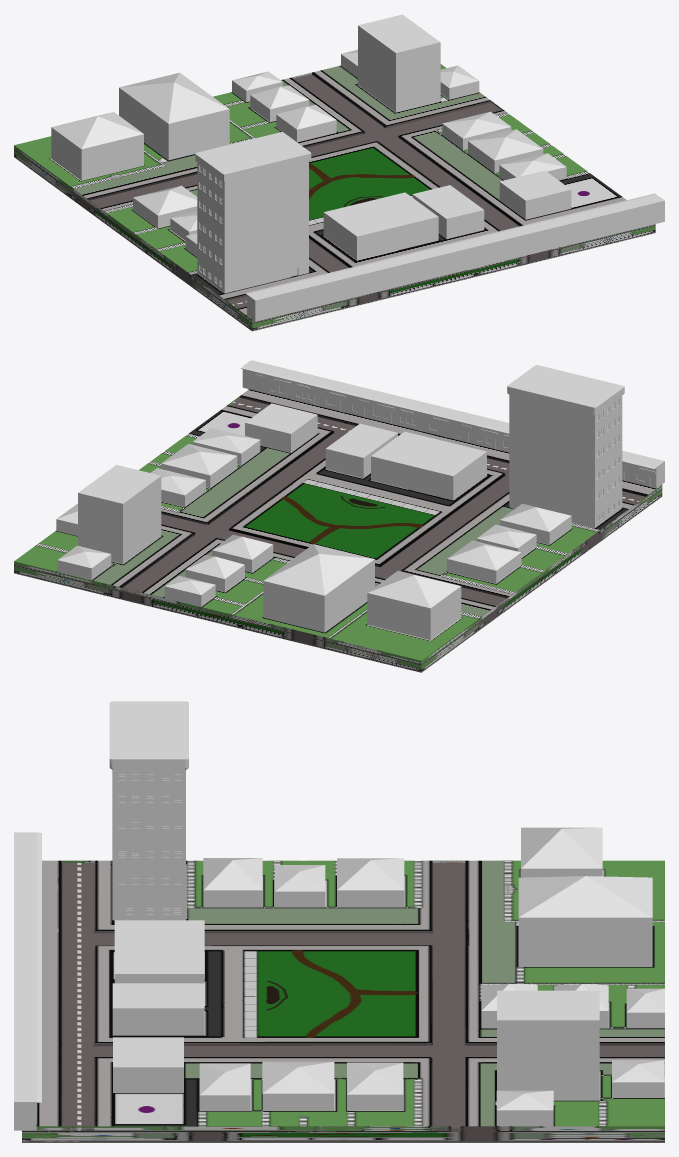
File: RacoonMap2.fbx
3 views of the same model, one above another, from view 1: azimuth 30°, elevation 25°; view 2: azimuth 150°, elevation 25°; view 3: azimuth 270°, elevation 25° (orthographic). The views are drawn at different scales.
Visible parts, largest first — view 1: Ground, Apartment001, Mantion big, Apartment002, Double Resterant, Mantion small, shops, shops002, shops003, shops001, resterant002, Resterant001 (+9 smaller); view 2: Ground, Apartment001, Mantion big, Apartment002, Double Resterant, Mantion small, shops003, shops002, resterant002, Resterant001, House008, Double house (+11 smaller); view 3: Ground, Apartment001, Mantion big, Apartment002, Double Resterant, Resterant001, Mantion small, resterant002, Double house, House008, House010, House002 (+11 smaller).
Boxes of the visible parts, x1=… form: Ground: x1=14, y1=64, x2=655, y2=331; Apartment001: x1=195, y1=132, x2=311, y2=293; Mantion big: x1=119, y1=72, x2=229, y2=160; Apartment002: x1=358, y1=14, x2=440, y2=112; Double Resterant: x1=323, y1=192, x2=438, y2=260; Mantion small: x1=51, y1=112, x2=143, y2=180; shops: x1=245, y1=268, x2=357, y2=321; shops002: x1=450, y1=218, x2=562, y2=271; shops003: x1=552, y1=193, x2=664, y2=246; shops001: x1=348, y1=243, x2=460, y2=296; resterant002: x1=499, y1=170, x2=571, y2=219; Resterant001: x1=412, y1=185, x2=484, y2=239; Ground: x1=14, y1=389, x2=662, y2=672; Apartment001: x1=507, y1=365, x2=624, y2=527; Mantion big: x1=263, y1=544, x2=374, y2=632; Apartment002: x1=78, y1=465, x2=161, y2=563; Double Resterant: x1=371, y1=431, x2=486, y2=500; Mantion small: x1=367, y1=570, x2=461, y2=639; shops003: x1=241, y1=360, x2=354, y2=412; shops002: x1=344, y1=385, x2=457, y2=437; resterant002: x1=245, y1=403, x2=317, y2=452; Resterant001: x1=325, y1=423, x2=397, y2=478; House008: x1=447, y1=540, x2=521, y2=583; Double house: x1=161, y1=444, x2=237, y2=488; Ground: x1=22, y1=860, x2=664, y2=1142; Apartment001: x1=109, y1=701, x2=188, y2=920; Mantion big: x1=518, y1=876, x2=652, y2=966; Apartment002: x1=497, y1=990, x2=599, y2=1100; Double Resterant: x1=114, y1=920, x2=204, y2=983; Resterant001: x1=112, y1=983, x2=204, y2=1035; Mantion small: x1=521, y1=827, x2=602, y2=877; resterant002: x1=113, y1=1037, x2=183, y2=1092; Double house: x1=262, y1=1061, x2=334, y2=1110; House008: x1=337, y1=858, x2=404, y2=907; House010: x1=203, y1=858, x2=262, y2=907; House002: x1=347, y1=1062, x2=403, y2=1110.
Bounding box in the file's own units: 3599 × 1108 × 3669.
